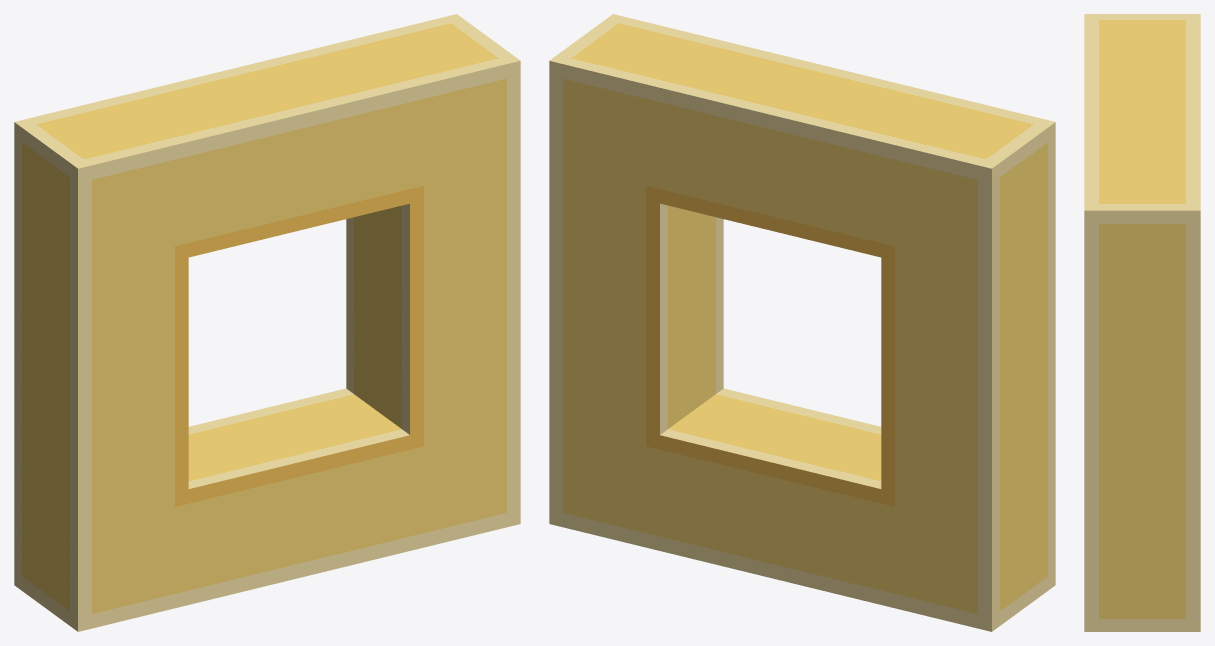
File: gen_1ao.fezao.glb
3 views of the same model, side by side, from view 1: azimuth 30°, elevation 25°; view 2: azimuth 150°, elevation 25°; view 3: azimuth 270°, elevation 25° (orthographic). The views are drawn at different scales.
Parts seen in each view (by area): view 1: GEN_1AO; view 2: GEN_1AO; view 3: GEN_1AO.
Boxes of the visible parts, x1,y1,x2,y2 form: GEN_1AO: [14, 14, 520, 631]; GEN_1AO: [549, 14, 1055, 631]; GEN_1AO: [1084, 14, 1200, 631].
Size of the model in its own units: 2 by 2 by 0.5.
1 material, 1 textured.
